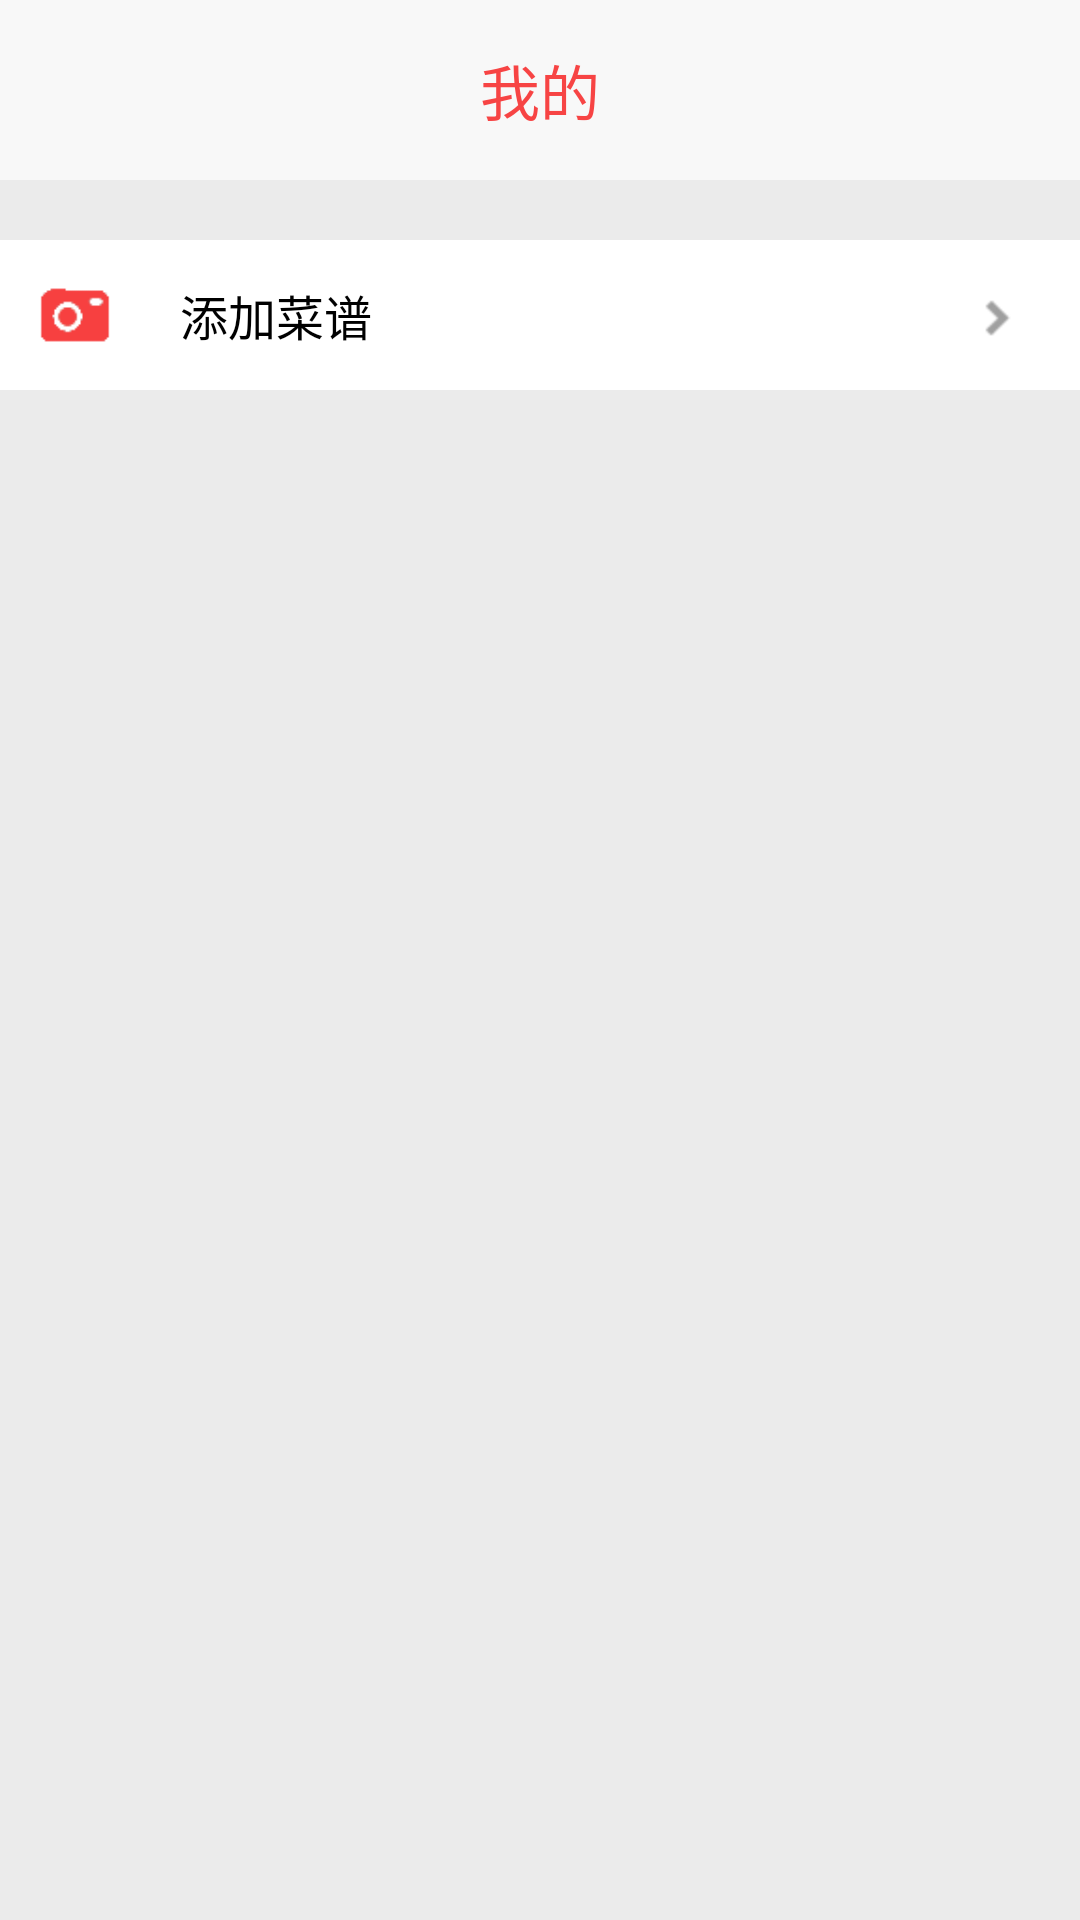

Icon bounding boxes for this 1080 × 1920 phone screenshot, format [left=x1, top=y1, right=x2, bottom=y2]:
arrow right: [left=986, top=301, right=1009, bottom=335]
center camera: [left=41, top=288, right=109, bottom=342]
